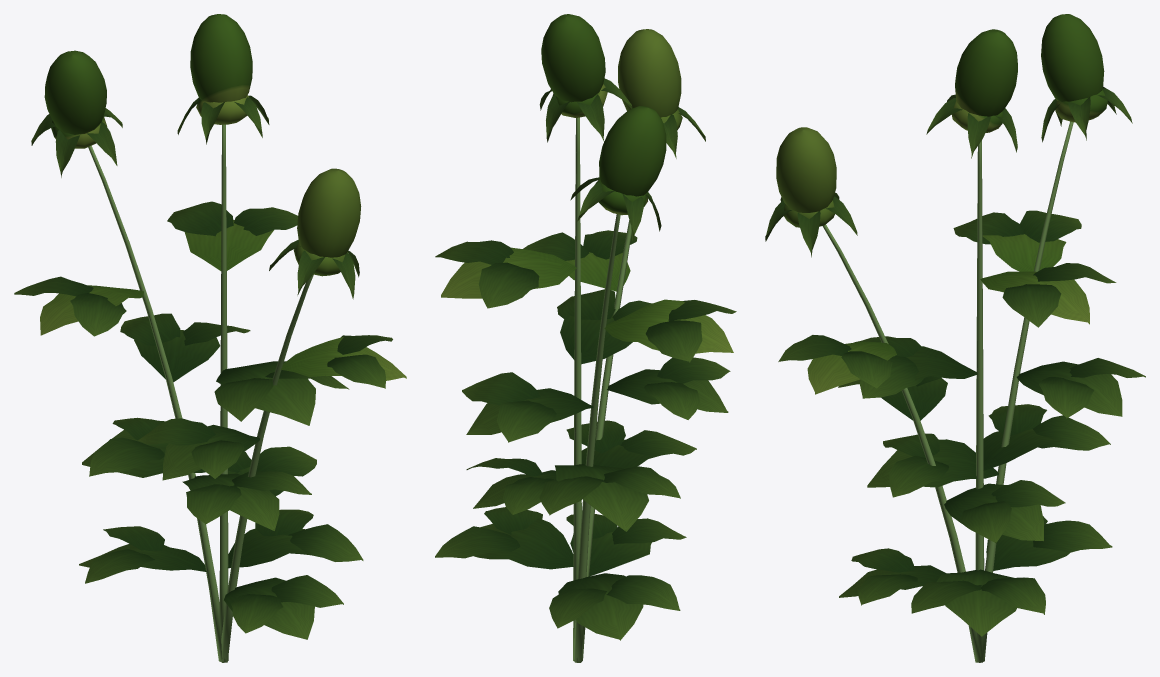
The model's file is rose-07-lod.glb.
3 renders of one model, left to right at view 1: azimuth 30°, elevation 25°; view 2: azimuth 150°, elevation 25°; view 3: azimuth 270°, elevation 25°, orthographic. The views are drawn at different scales.
Parts seen in each view (by area): view 1: rose_stage_07_leaf_veins.013, rose_stage_07_young_leaf.013, rose_stage_07_stem_fibres.013; view 2: rose_stage_07_leaf_veins.013, rose_stage_07_young_leaf.013, rose_stage_07_stem_fibres.013; view 3: rose_stage_07_leaf_veins.013, rose_stage_07_young_leaf.013, rose_stage_07_stem_fibres.013.
Part boxes in pixels (box(x1,y1,x2,y2)): rose_stage_07_leaf_veins.013: box(14, 95, 392, 639); rose_stage_07_young_leaf.013: box(40, 14, 406, 380); rose_stage_07_stem_fibres.013: box(88, 124, 313, 662); rose_stage_07_leaf_veins.013: box(435, 78, 736, 640); rose_stage_07_young_leaf.013: box(441, 14, 733, 353); rose_stage_07_stem_fibres.013: box(573, 117, 631, 662); rose_stage_07_leaf_veins.013: box(765, 86, 1145, 636); rose_stage_07_young_leaf.013: box(776, 14, 1107, 394); rose_stage_07_stem_fibres.013: box(822, 121, 1073, 662).
Bounding box in the file's own units: 0.2721 × 0.5674 × 0.3101.
Materials: 3 (2 with a texture image).
